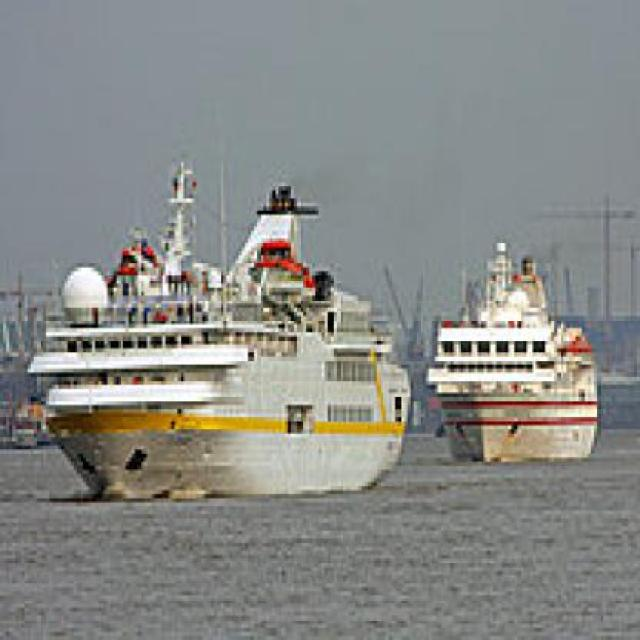cruise: (41, 147, 418, 503), (427, 228, 618, 471)
